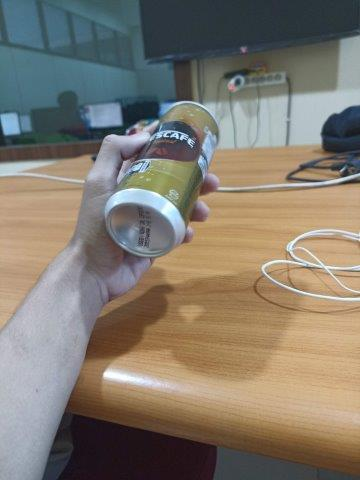kaleng: (103, 100, 221, 259)
